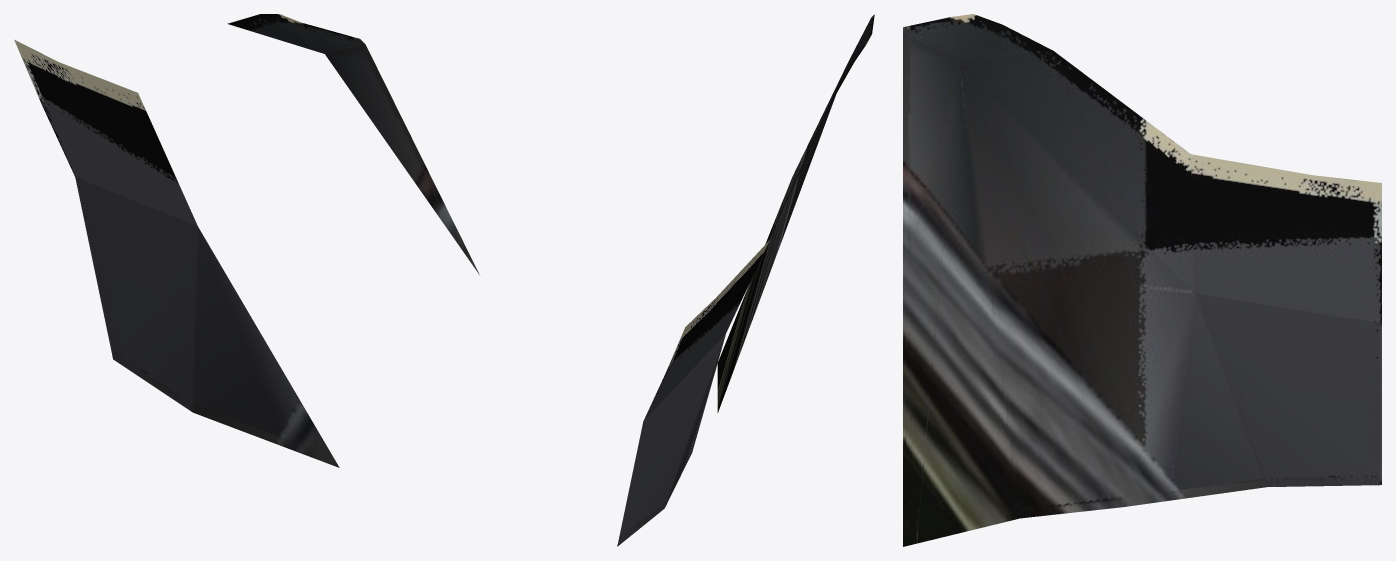
The picture shows the model from 3 angles, left to right: view 1: azimuth 30°, elevation 25°; view 2: azimuth 150°, elevation 25°; view 3: azimuth 270°, elevation 25°; orthographic projection. The views are drawn at different scales.
Bounding box in the file's own units: 0.8202 × 1.67 × 1.67.
2 materials, 2 textured.
